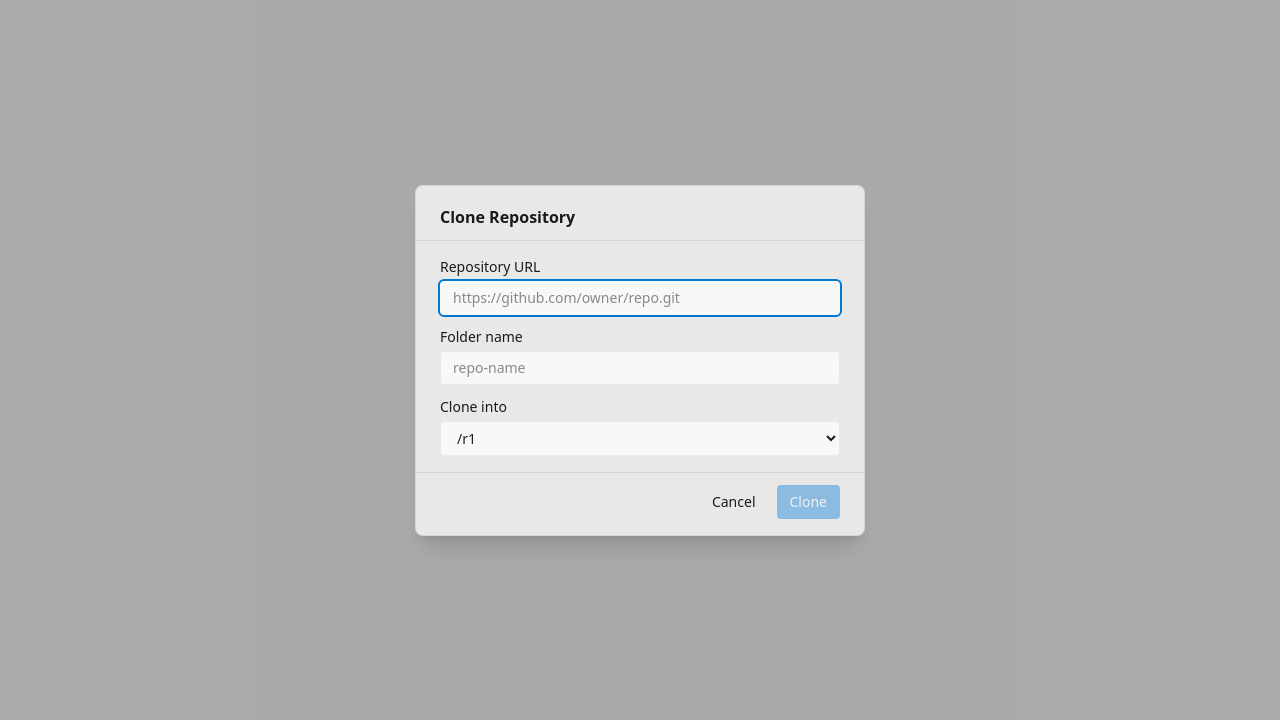
it: CloneRepoDialog › prefills name from URL as user types
The width and height of the screenshot is (1280, 720).
Type "https://github.com/me/my-repo.git" into the field labelled "Repository URL" at coordinates (640, 298), box [440,280,840,314]
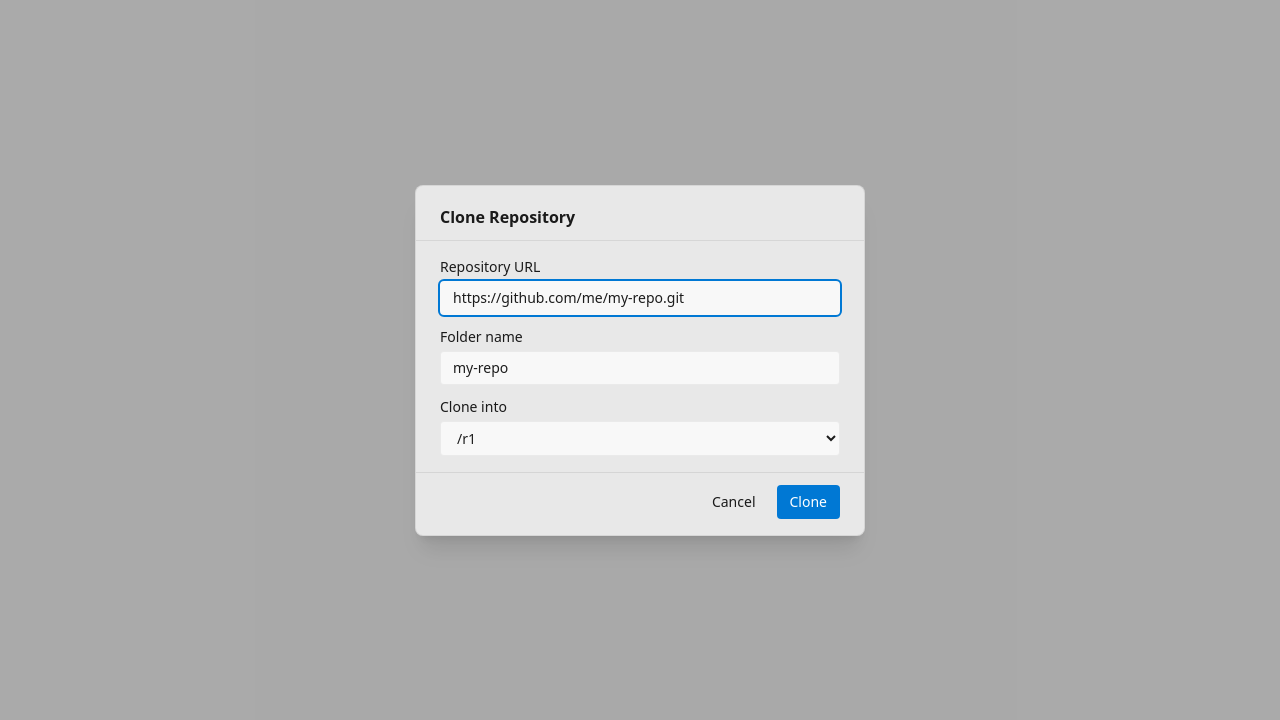
Check: the field labelled "Folder name" holds "my-repo", box [440,350,840,384]
